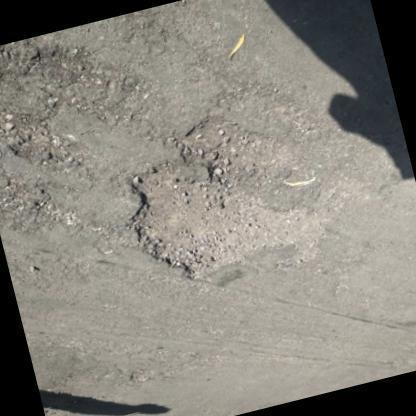pothole: (120, 147, 327, 284), (0, 42, 156, 130), (179, 110, 306, 193), (0, 109, 85, 174), (0, 180, 90, 236)
